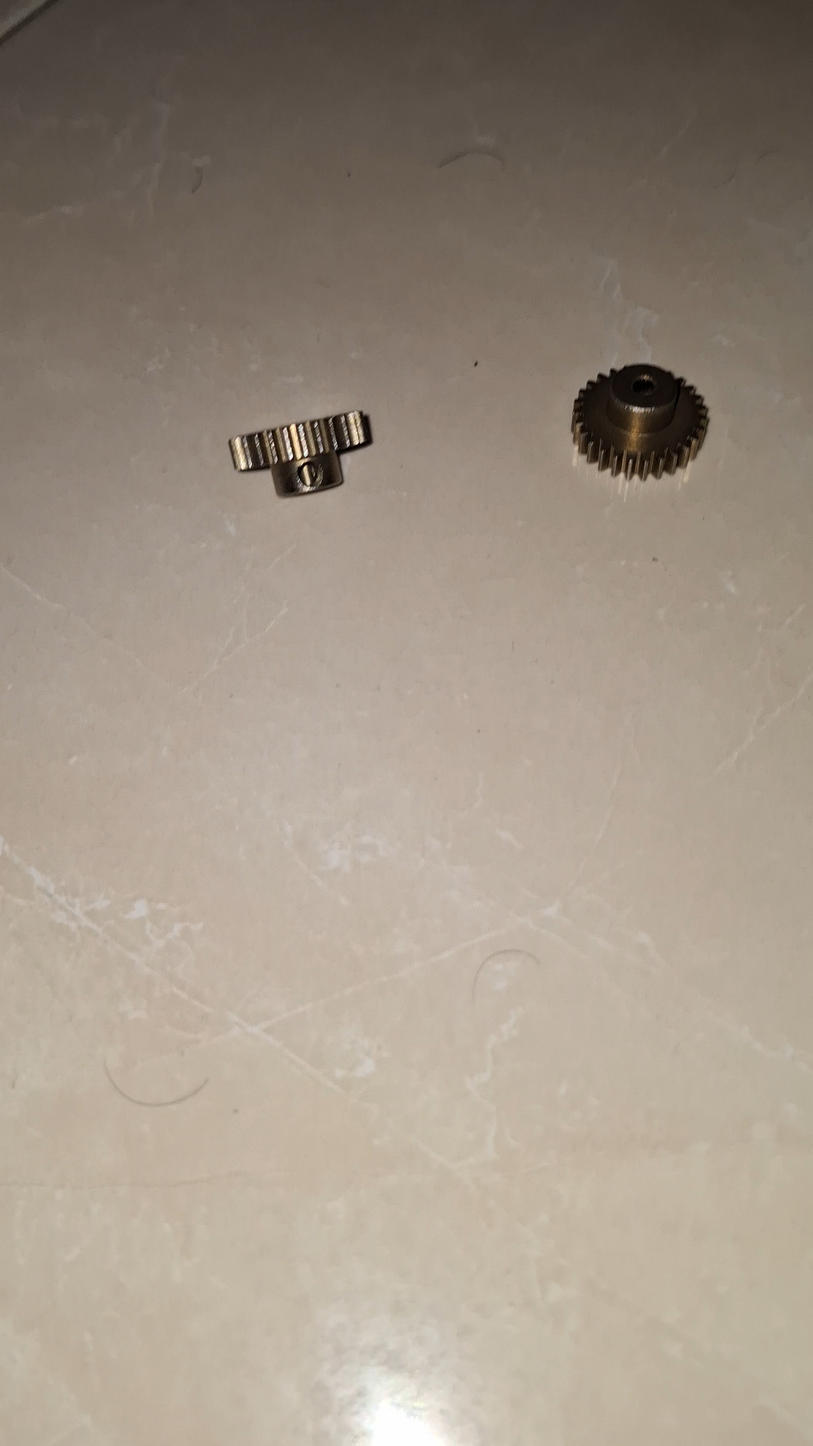spur gear: (572, 363, 708, 479), (230, 411, 371, 496)
